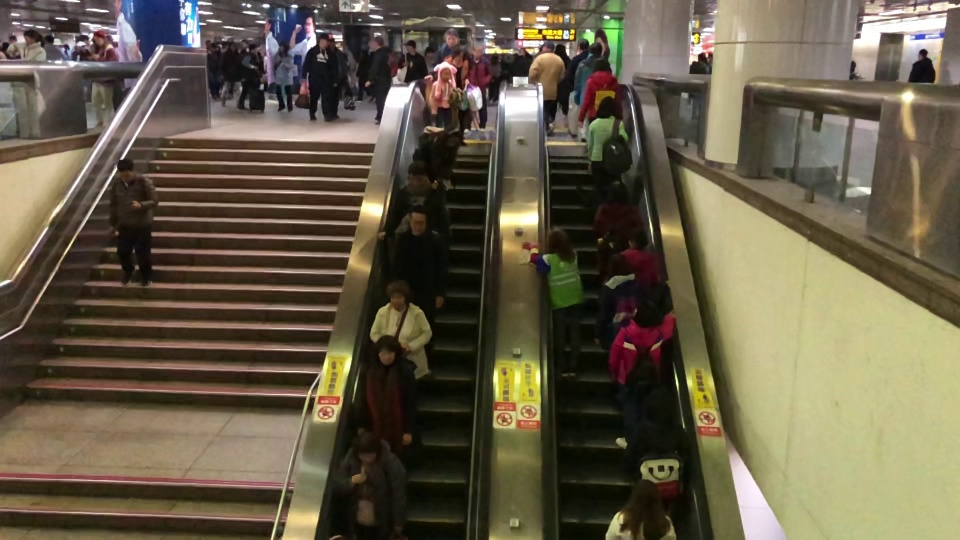person_head: (644, 388, 675, 422), (351, 431, 382, 464), (629, 479, 660, 509), (374, 333, 401, 364), (635, 300, 661, 326), (387, 280, 410, 308), (606, 253, 633, 276), (547, 226, 570, 251), (405, 162, 428, 186), (605, 180, 630, 202), (408, 205, 426, 234), (596, 96, 619, 118), (628, 228, 649, 248), (117, 157, 134, 179), (451, 48, 465, 67), (433, 146, 447, 165), (444, 28, 459, 45), (592, 57, 610, 71), (23, 28, 37, 42), (371, 35, 385, 49), (590, 41, 602, 57), (439, 66, 451, 81), (318, 32, 329, 48), (542, 39, 555, 52), (471, 45, 483, 58), (93, 30, 104, 44), (278, 41, 290, 53), (578, 38, 590, 49), (917, 47, 928, 59), (76, 33, 89, 43), (405, 39, 415, 52), (556, 44, 565, 55), (44, 34, 54, 43), (247, 43, 257, 52), (849, 59, 856, 71), (697, 53, 706, 61)
person_vbox: (608, 300, 679, 452), (521, 225, 586, 379), (359, 333, 423, 463), (332, 430, 409, 537), (593, 253, 674, 352), (624, 387, 690, 497), (109, 157, 160, 288), (368, 280, 434, 380), (391, 205, 450, 307), (375, 162, 452, 239), (592, 180, 647, 278), (604, 478, 676, 540), (587, 96, 634, 181), (527, 39, 565, 135), (577, 56, 623, 127), (301, 32, 338, 120), (572, 41, 603, 141), (86, 29, 117, 125), (442, 49, 469, 146), (412, 126, 457, 183), (363, 35, 390, 124), (621, 228, 661, 286), (469, 45, 493, 130), (271, 41, 296, 111), (235, 43, 258, 112), (433, 27, 470, 65), (690, 54, 711, 118), (397, 39, 428, 81), (7, 28, 46, 60), (568, 38, 591, 92), (907, 47, 936, 83), (430, 66, 454, 107), (69, 34, 93, 60), (44, 34, 63, 59), (849, 59, 864, 80)
